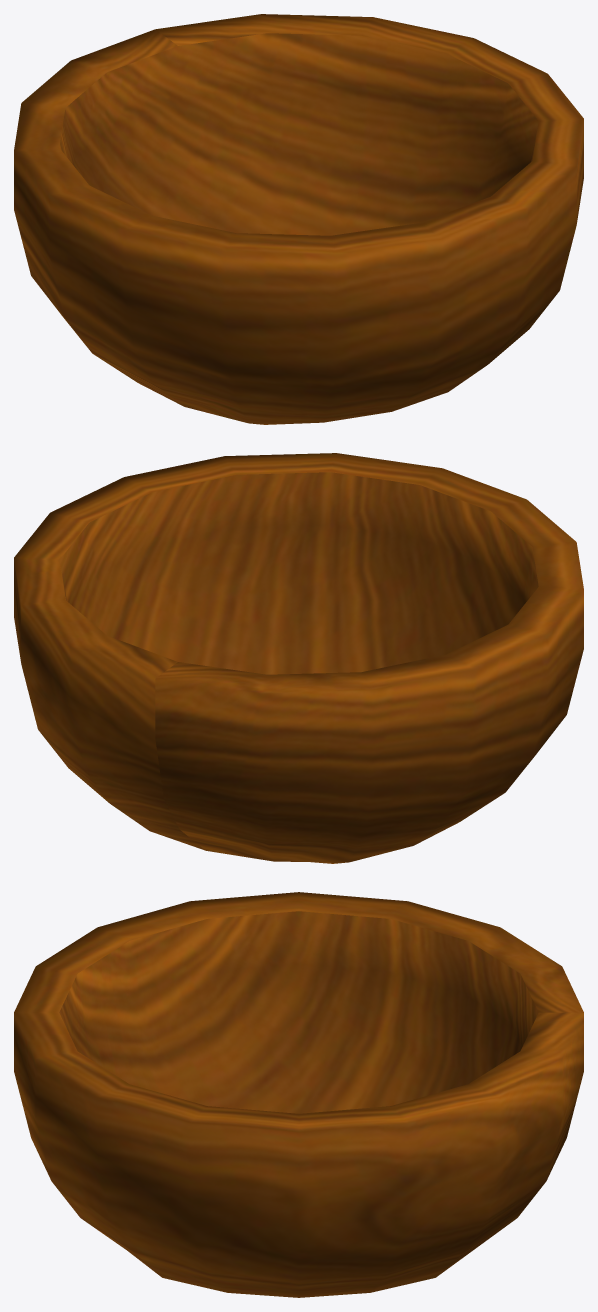
The model's file is Bowl.fbx.
3 views of the same model, one above another, from view 1: azimuth 30°, elevation 25°; view 2: azimuth 150°, elevation 25°; view 3: azimuth 270°, elevation 25° (orthographic).
Visible parts, largest first — view 1: Cylinder; view 2: Cylinder; view 3: Cylinder.
Part boxes in pixels (bbox=[...]): Cylinder: bbox=[14, 14, 583, 424]; Cylinder: bbox=[14, 453, 583, 863]; Cylinder: bbox=[14, 892, 583, 1297].
Bounding box in the file's own units: 200 × 90.86 × 200.
1 material, 1 textured.
